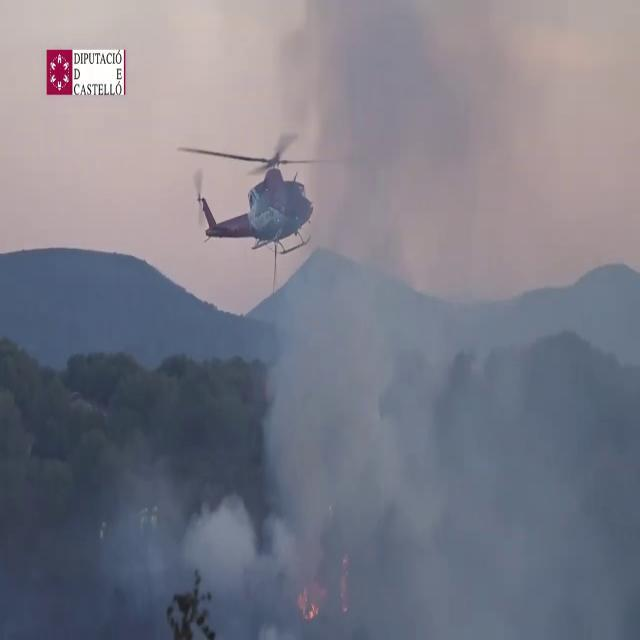Smoke: (222, 100, 638, 640), (5, 372, 257, 636)
